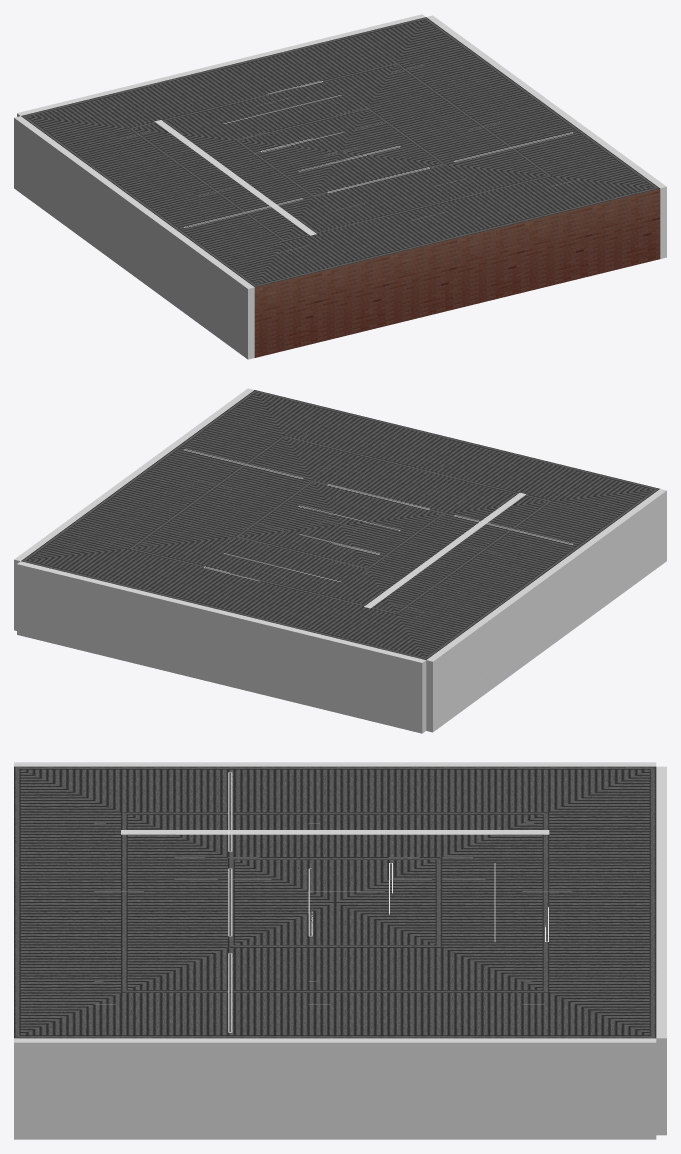
Rendered from BaseRoom.fbx.
3 views of the same model, one above another, from view 1: azimuth 30°, elevation 25°; view 2: azimuth 150°, elevation 25°; view 3: azimuth 270°, elevation 25° (orthographic). The views are drawn at different scales.
Visible parts, largest first — view 1: Room_006, Room_007, Wall_24m_tp1_External.020, Wall_24m_tp1_External.018, Wall_24m_tp1_Mid_A.005, Wall_24m_tp1_Mid_A.020, Wall_24m_tp1_Mid_A.017, Wall_24m_tp1_Mid_A.004, Wall_24m_tp1_Mid_A.003; view 2: Room_006, Wall_24m_tp1_External.020, Wall_24m_tp1_External.017, Wall_24m_tp1_External.004, Wall_24m_tp1_External.018, Wall_24m_tp1_Mid_A.020, Wall_24m_tp1_Mid_A.005, Wall_24m_tp1_Mid_A.017, Wall_24m_tp1_Mid_A.004, Wall_24m_tp1_Mid_A.003; view 3: Room_006, Wall_24m_tp1_External.019, Wall_24m_tp1_External.005, Wall_24m_tp1_Mid_A.005, Wall_24m_tp1_Mid_A.020, Wall_24m_tp1_Mid_A.017, Wall_24m_tp1_Mid_A.003, Wall_24m_tp1_Mid_A.004.
Boxes of the visible parts, <box> form: Room_006: <box>21,17,659,287</box>; Room_007: <box>254,188,660,357</box>; Wall_24m_tp1_External.020: <box>14,144,247,359</box>; Wall_24m_tp1_External.018: <box>14,118,66,198</box>; Wall_24m_tp1_Mid_A.005: <box>426,15,666,258</box>; Wall_24m_tp1_Mid_A.020: <box>14,116,254,359</box>; Wall_24m_tp1_Mid_A.017: <box>17,50,278,115</box>; Wall_24m_tp1_Mid_A.004: <box>17,14,425,116</box>; Wall_24m_tp1_Mid_A.003: <box>174,134,297,221</box>; Room_006: <box>21,390,659,659</box>; Wall_24m_tp1_External.020: <box>433,491,666,731</box>; Wall_24m_tp1_External.017: <box>191,613,422,733</box>; Wall_24m_tp1_External.004: <box>17,564,242,684</box>; Wall_24m_tp1_External.018: <box>433,596,544,731</box>; Wall_24m_tp1_Mid_A.020: <box>426,489,666,731</box>; Wall_24m_tp1_Mid_A.005: <box>14,388,254,630</box>; Wall_24m_tp1_Mid_A.017: <box>193,605,426,733</box>; Wall_24m_tp1_Mid_A.004: <box>17,561,426,728</box>; Wall_24m_tp1_Mid_A.003: <box>383,507,506,593</box>; Room_006: <box>14,766,656,1038</box>; Wall_24m_tp1_External.019: <box>228,1042,656,1139</box>; Wall_24m_tp1_External.005: <box>14,1042,651,1139</box>; Wall_24m_tp1_Mid_A.005: <box>14,1038,656,1042</box>; Wall_24m_tp1_Mid_A.020: <box>14,762,656,766</box>; Wall_24m_tp1_Mid_A.017: <box>656,766,666,1135</box>; Wall_24m_tp1_Mid_A.003: <box>174,830,495,834</box>; Wall_24m_tp1_Mid_A.004: <box>656,908,666,1135</box>.
Bounding box in the file's own units: 24.8 × 4.04 × 24.4.
